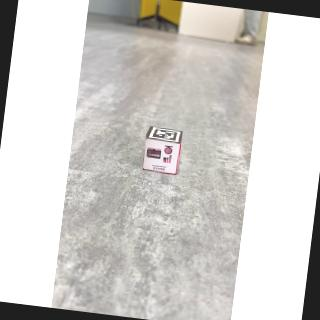Expired_Cosmetic: (140, 139, 183, 177)
